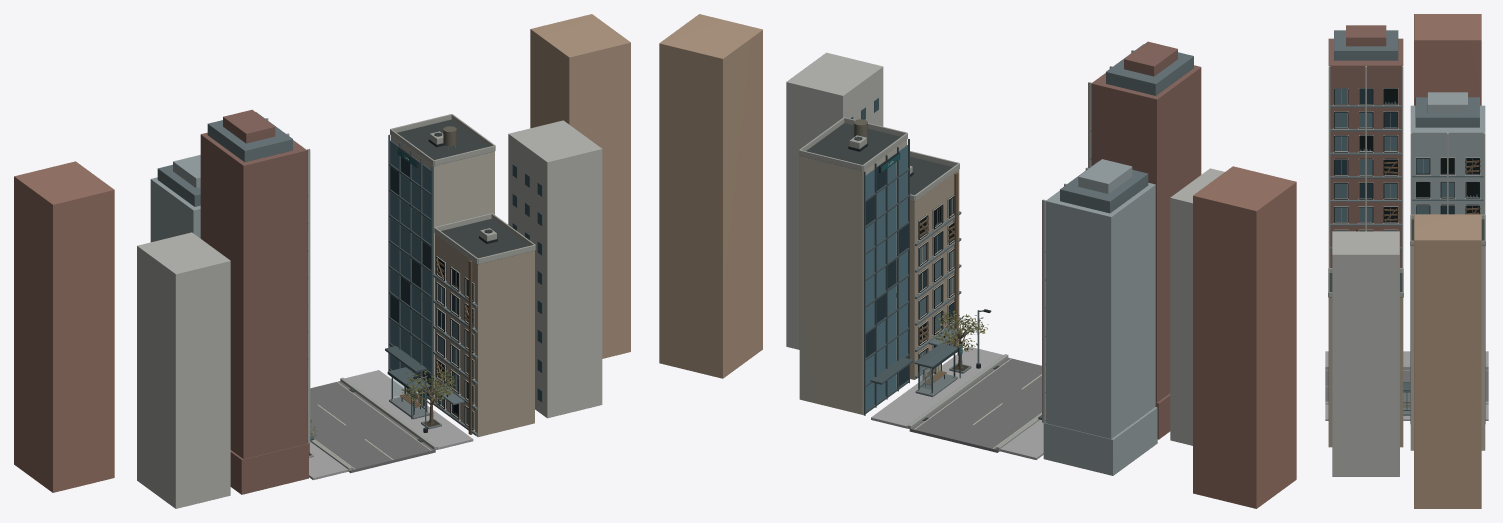
The model's file is city_hd_18.glb.
3 views of the same model, side by side, from view 1: azimuth 30°, elevation 25°; view 2: azimuth 150°, elevation 25°; view 3: azimuth 270°, elevation 25° (orthographic). The views are drawn at different scales.
Visible parts, largest first — view 1: CITY_realwall_b8b9b4, Background city building.001, CITY_realwall_87685e, Background city building.003, Modern apartment main volume.002, CITY_PBR_asphalt, CITY_tank, Office core, CITY_trim, CITY_office_frame, CITY_modern_panel, CITY_PBR_pavement (+10 smaller); view 2: Background city building.003, Background city building.001, CITY_realwall_9aa6a8, Office core, CITY_realwall_b8b9b4, CITY_realwall_87685e, CITY_PBR_asphalt, CITY_tank, CITY_modern_panel, CITY_office_frame, Modern apartment main volume.002, CITY_PBR_pavement (+9 smaller); view 3: Background city building.003, CITY_realwall_b8b9b4, CITY_realwall_87685e, Background city building.001, CITY_realwall_9aa6a8, CITY_modern_panel, CITY_glass, CITY_trim, CITY_recess, Office core, CITY_window_void, CITY_frame (+7 smaller).
Boxes of the visible parts, bbox=[...] form: CITY_realwall_b8b9b4: bbox=[137, 120, 602, 508]; Background city building.001: bbox=[14, 161, 114, 492]; CITY_realwall_87685e: bbox=[200, 109, 308, 494]; Background city building.003: bbox=[530, 14, 630, 358]; Modern apartment main volume.002: bbox=[435, 233, 534, 436]; CITY_PBR_asphalt: bbox=[310, 381, 435, 473]; CITY_tank: bbox=[390, 140, 431, 375]; Office core: bbox=[391, 135, 494, 399]; CITY_trim: bbox=[265, 114, 535, 443]; CITY_office_frame: bbox=[310, 134, 433, 440]; CITY_modern_panel: bbox=[157, 112, 477, 441]; CITY_PBR_pavement: bbox=[309, 370, 473, 480]; Background city building.003: bbox=[659, 14, 762, 378]; Background city building.001: bbox=[1193, 166, 1296, 508]; CITY_realwall_9aa6a8: bbox=[1043, 159, 1157, 475]; Office core: bbox=[799, 139, 907, 414]; CITY_realwall_b8b9b4: bbox=[786, 52, 1224, 445]; CITY_realwall_87685e: bbox=[1091, 41, 1201, 439]; CITY_PBR_asphalt: bbox=[909, 357, 1041, 452]; CITY_tank: bbox=[865, 145, 907, 410]; CITY_modern_panel: bbox=[915, 44, 1193, 421]; CITY_office_frame: bbox=[863, 139, 1041, 419]; Modern apartment main volume.002: bbox=[910, 169, 959, 379]; CITY_PBR_pavement: bbox=[871, 346, 1043, 459]; Background city building.003: bbox=[1414, 214, 1481, 508]; CITY_realwall_b8b9b4: bbox=[1332, 231, 1399, 476]; CITY_realwall_87685e: bbox=[1328, 25, 1403, 267]; Background city building.001: bbox=[1414, 14, 1481, 105]; CITY_realwall_9aa6a8: bbox=[1410, 92, 1485, 214]; CITY_modern_panel: bbox=[1330, 30, 1483, 249]; CITY_glass: bbox=[1334, 89, 1477, 231]; CITY_trim: bbox=[1328, 66, 1485, 297]; CITY_recess: bbox=[1334, 88, 1479, 231]; Office core: bbox=[1410, 246, 1485, 450]; CITY_window_void: bbox=[1359, 89, 1479, 231]; CITY_frame: bbox=[1334, 88, 1479, 230].
Size of the model in its own units: 56.65 by 33.08 by 16.
